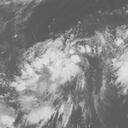cyclone: (24, 39, 83, 94)
